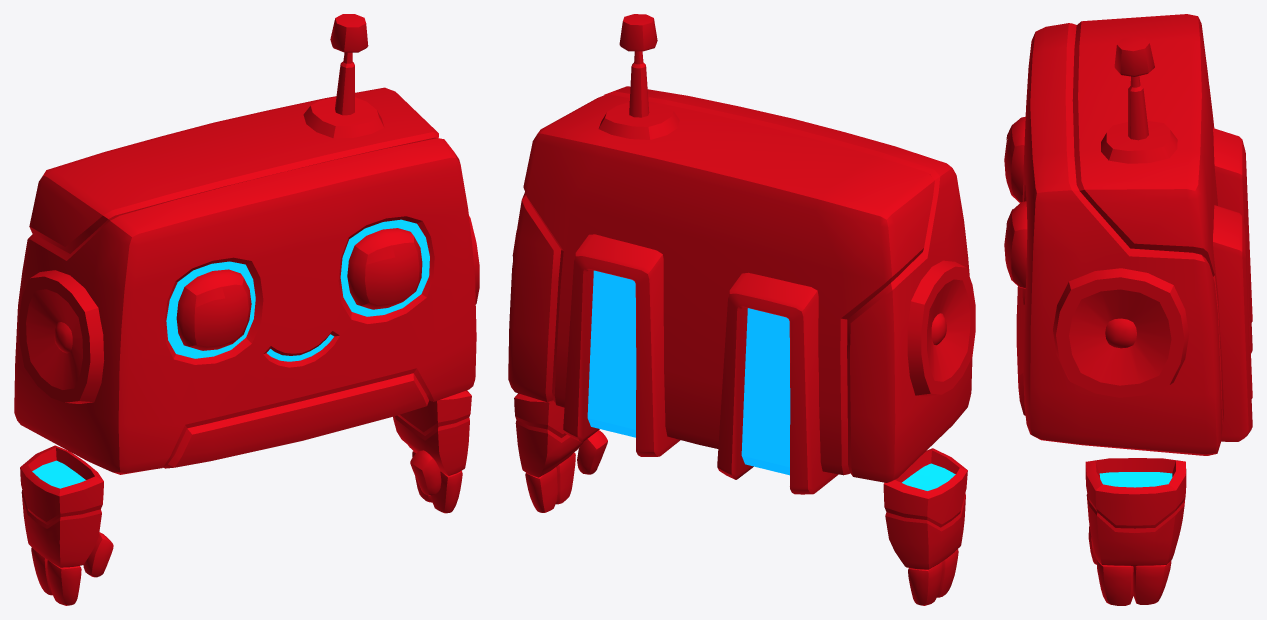
The model's file is model3_robot.glb.
3 views of the same model, side by side, from view 1: azimuth 30°, elevation 25°; view 2: azimuth 150°, elevation 25°; view 3: azimuth 270°, elevation 25° (orthographic). The views are drawn at different scales.
Parts seen in each view (by area): view 1: Object_21, Object_22; view 2: Object_21, Object_22; view 3: Object_21, Object_22.
Boxes of the visible parts, x1,y1,x2,y2 form: Object_21: [14, 14, 479, 605]; Object_22: [32, 219, 429, 488]; Object_21: [508, 14, 975, 605]; Object_22: [587, 270, 955, 490]; Object_21: [1004, 14, 1252, 605]; Object_22: [1099, 472, 1172, 487].
Size of the model in its own units: 32.6 by 37.45 by 16.24.
